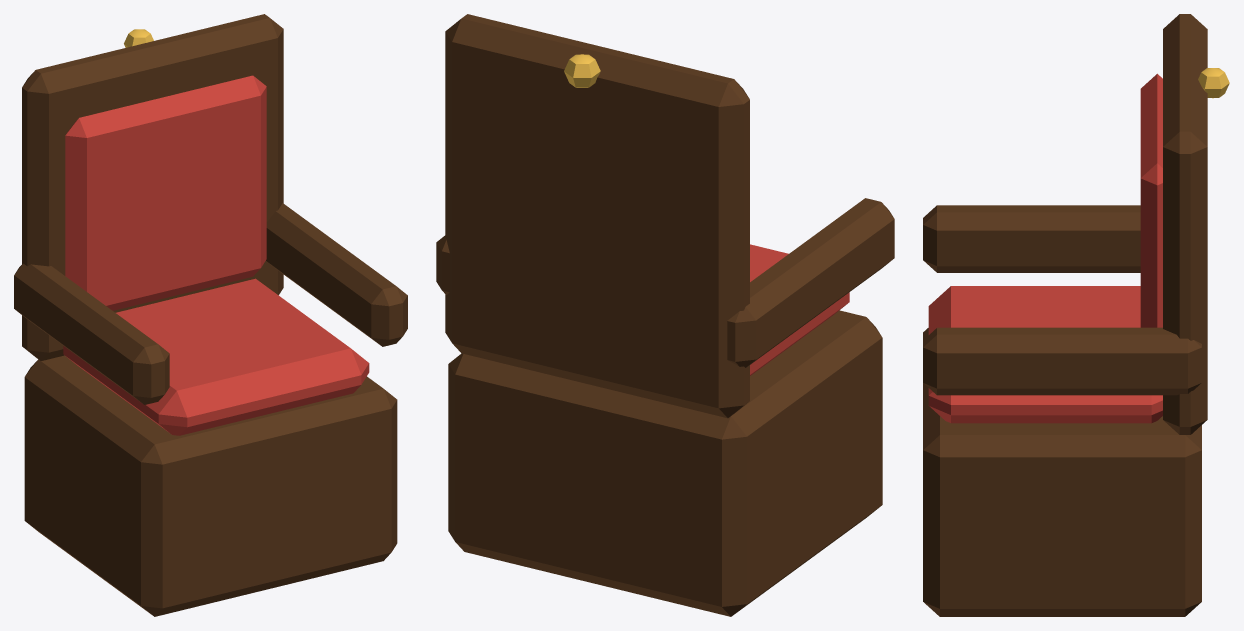
Rendered from PR_Furniture_Koltuk.fbx.
The picture shows the model from 3 angles, left to right: view 1: azimuth 30°, elevation 25°; view 2: azimuth 150°, elevation 25°; view 3: azimuth 270°, elevation 25°; orthographic projection. The views are drawn at different scales.
Visible parts, largest first — view 1: PR_Furniture_Koltuk; view 2: PR_Furniture_Koltuk; view 3: PR_Furniture_Koltuk.
Part boxes in pixels (box(x1,y1,x2,y2)): PR_Furniture_Koltuk: box(14, 14, 407, 616); PR_Furniture_Koltuk: box(436, 14, 894, 616); PR_Furniture_Koltuk: box(923, 14, 1229, 616).
Bounding box in the file's own units: 0.6 × 0.97 × 0.55.
1 material, 1 textured.
